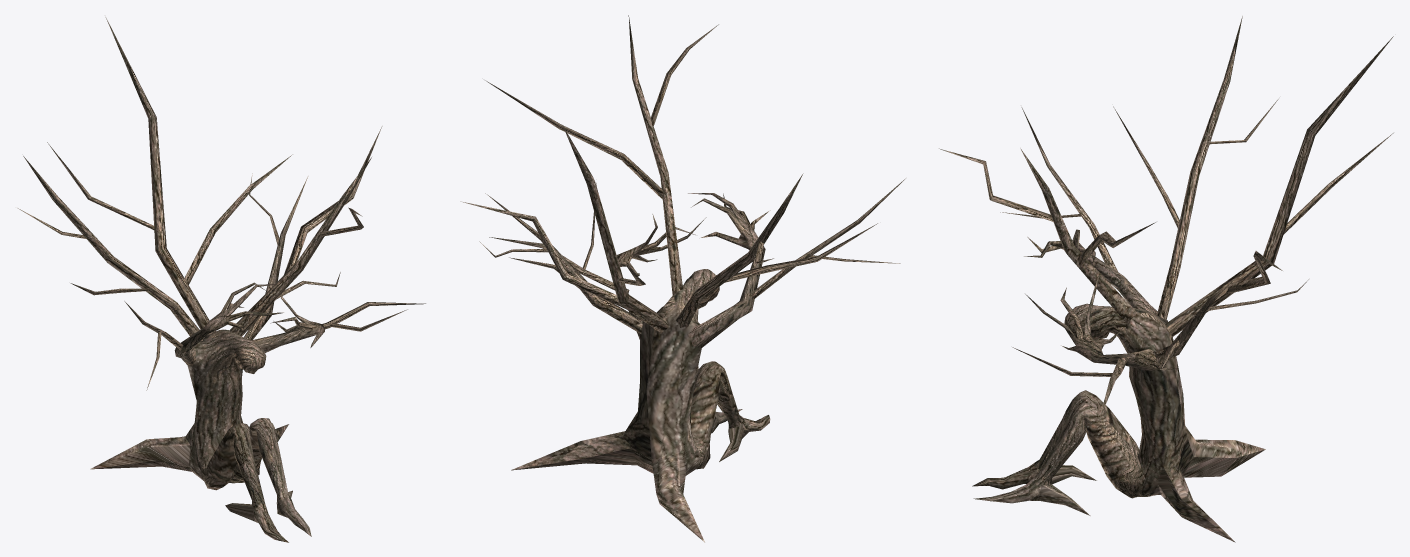
Rendered from tree_hitogata3_2.fbx.
The picture shows the model from 3 angles, left to right: view 1: azimuth 30°, elevation 25°; view 2: azimuth 150°, elevation 25°; view 3: azimuth 270°, elevation 25°; orthographic projection. The views are drawn at different scales.
Visible parts, largest first — view 1: tree_hitogata3; view 2: tree_hitogata3; view 3: tree_hitogata3.
Part boxes in pixels (bbox=[...]): tree_hitogata3: bbox=[17, 17, 425, 542]; tree_hitogata3: bbox=[460, 15, 905, 542]; tree_hitogata3: bbox=[939, 16, 1393, 542].
Size of the model in its own units: 12.31 by 13.13 by 12.
